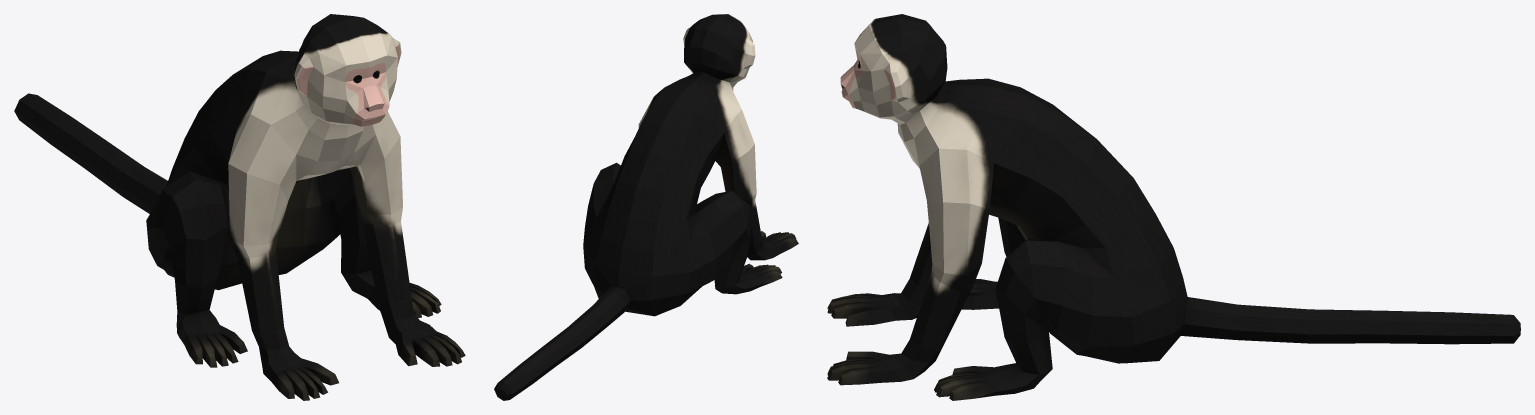
Rendered from monkey.glb.
3 views of the same model, side by side, from view 1: azimuth 30°, elevation 25°; view 2: azimuth 150°, elevation 25°; view 3: azimuth 270°, elevation 25° (orthographic). The views are drawn at different scales.
Visible parts, largest first — view 1: CapuchinMonkey_Mesh; view 2: CapuchinMonkey_Mesh; view 3: CapuchinMonkey_Mesh.
Boxes of the visible parts, x1,y1,x2,y2 form: CapuchinMonkey_Mesh: (14,14,465,400); CapuchinMonkey_Mesh: (494,14,798,400); CapuchinMonkey_Mesh: (827,14,1520,400).
Bounding box in the file's own units: 0.316 × 0.4158 × 0.8.
1 material, 1 textured.
